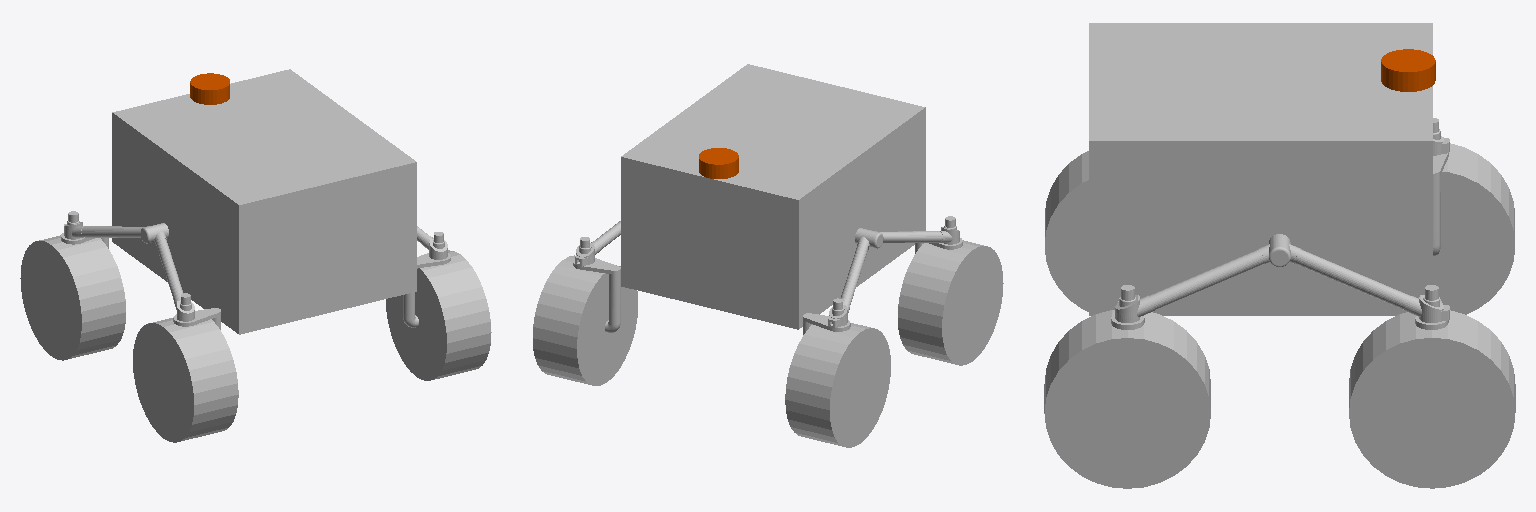
The robot description file, URDF, robot "rover":
<?xml version='1.0'?>
<robot name="rover" version="1.0">
  
  <!-- Joint Definitions -->
  <joint name="base_footprint_joint" type="fixed">
    <parent link="base_link"/>
    <child link="base_footprint"/>
    <origin xyz="0 0 0" rpy="0 0 0"/>
  </joint>

  <link name="base_footprint">
  </link>
  <link name="base_link">
  </link>

  <joint name="chassis_joint" type="fixed">
    <parent link="base_link"/>
    <child link="chassis_link"/>
    <origin xyz="0 0 0"/>
  </joint>

  <joint name="back_left_wheel_connection_link_joint" type="continuous">
    <!-- <limit lower="0" upper="0" effort="0.000000" velocity="0.000000"/> -->
    <origin rpy="-0.000000 1.570796 0.000000" xyz="-0.040213 0.277630 -0.040843"/>
    <parent link="left_rocker_link"/>
    <child link="back_left_wheel_connection_link"/>
    <axis xyz="0.000000 0.000000 1.000000"/>
  </joint>
  <joint name="back_left_wheel_link_joint" type="continuous">
    <!-- <limit lower="0" upper="0" effort="0.000000" velocity="0.000000"/> -->
    <origin rpy="0.000000 -1.570796 0.000000" xyz="-0.001015 0.000984 -0.224364"/>
    <parent link="back_left_wheel_connection_link"/>
    <child link="back_left_wheel_link"/>
    <axis xyz="0.000000 0.000000 1.000000"/>
  </joint>
  <joint name="back_right_wheel_link_joint" type="continuous">
    <!-- <limit lower="0" upper="0" effort="0.000000" velocity="0.000000"/> -->
    <origin rpy="0.000000 -1.570796 0.000000" xyz="-0.001015 0.000984 -0.224364"/>
    <parent link="back_right_wheel_connection_link"/>
    <child link="back_right_wheel_link"/>
    <axis xyz="0.000000 0.000000 1.000000"/>
  </joint>
  <joint name="back_right_wheel_connection_link_joint" type="continuous">
    <!-- <limit lower="0" upper="0" effort="0.000000" velocity="0.000000"/> -->
    <origin rpy="-0.000000 1.570796 0.000000" xyz="-0.039199 0.277668 0.039794"/>
    <parent link="right_rocker_link"/>
    <child link="back_right_wheel_connection_link"/>
    <axis xyz="0.000000 0.000000 1.000000"/>
  </joint>
  <joint name="front_left_wheel_connection_link_joint" type="continuous">
    <!-- <limit lower="0" upper="0" effort="0.000000" velocity="0.000000"/> -->
    <origin rpy="-0.000000 1.570796 0.000000" xyz="-0.040213 -0.279250 -0.041051"/>
    <parent link="left_rocker_link"/>
    <child link="front_left_wheel_connection_link"/>
    <axis xyz="0.000000 0.000000 1.000000"/>
  </joint>
  <joint name="front_left_wheel_link_joint" type="continuous">
    <!-- <limit lower="0" upper="0" effort="0.000000" velocity="0.000000"/> -->
    <origin rpy="0.000000 -1.570796 0.000000" xyz="-0.000405 0.000234 -0.224593"/>
    <parent link="front_left_wheel_connection_link"/>
    <child link="front_left_wheel_link"/>
    <axis xyz="0.000000 0.000000 1.000000"/>
  </joint>
  <joint name="front_right_wheel_connection_link_joint" type="continuous">
    <!-- <limit lower="0" upper="0" effort="0.000000" velocity="0.000000"/> -->
    <origin rpy="-0.000000 1.570796 0.000000" xyz="-0.039199 -0.279811 0.039779"/>
    <parent link="right_rocker_link"/>
    <child link="front_right_wheel_connection_link"/>
    <axis xyz="0.000000 0.000000 1.000000"/>
  </joint>
  <joint name="front_right_wheel_link_joint" type="continuous">
    <!-- <limit lower="0" upper="0" effort="0.000000" velocity="0.000000"/> -->
    <origin rpy="-0.000000 -1.570796 0.000000" xyz="-0.001015 0.000984 -0.224364"/>
    <parent link="front_right_wheel_connection_link"/>
    <child link="front_right_wheel_link"/>
    <axis xyz="0.000000 0.000000 1.000000"/>
  </joint>
  <joint name="left_rocker_link_joint" type="fixed">
    <!-- <limit lower="-1.000000" upper="1.000000" effort="0.000000" velocity="0.000000"/> -->
    <origin rpy="0.000000 -1.570796 0.000000" xyz="0.316939 0.035009 -0.031693"/>
    <parent link="chassis_link"/>
    <child link="left_rocker_link"/>
    <axis xyz="0.000000 0.000000 1.000000"/>
  </joint>
  <joint name="right_rocker_link_joint" type="fixed">
    <!-- <limit lower="-1.000000" upper="1.000000" effort="0.000000" velocity="0.000000"/> -->
    <origin rpy="0.000000 -1.570796 0.000000" xyz="-0.326391 0.034904 -0.032707"/>
    <parent link="chassis_link"/>
    <child link="right_rocker_link"/>
    <axis xyz="0.000000 0.000000 1.000000"/>
  </joint>

  <!-- Link Definitions -->
  <link name="back_left_wheel_connection_link">
    <collision name="back_left_wheel_connection_collision">
      <origin rpy="0.000000 0.000000 0.000000" xyz="-0.000000 -0.000000 -0.000000"/>
      <geometry>
        <mesh filename="package://rover/meshes/dae/rover_assm.263.dae" scale="0.001020 0.001020 0.001020"/>
      </geometry>
    </collision>
    <inertial>
      <inertia ixx="0.007968" ixy="0.000000" ixz="0.000000" iyy="0.006673" iyz="-0.002185" izz="0.001483"/>
      <origin rpy="0.000000 0.000000 0.000000" xyz="-0.034999 -0.000141 -0.080752"/>
      <mass value="1.000000"/>
    </inertial>
    <visual name="back_left_wheel_connection">
      <origin rpy="0.000000 0.000000 0.000000" xyz="0.000000 -0.000000 0.000000"/>
      <material name="RockerMat"/>
      <geometry>
        <mesh filename="package://rover/meshes/dae/rover_assm.266.dae" scale="0.001020 0.001020 0.001020"/>
      </geometry>
    </visual>
  </link>
  <gazebo reference="back_left_wheel_connection_link">
    <material>Gazebo/Blue</material>
  </gazebo>
  <link name="back_left_wheel_link">
    <collision name="back_left_wheel_collision">
      <origin rpy="-3.141593 -0.000000 -3.141593" xyz="-0.000149 -0.000000 -0.000229"/>
      <geometry>
        <cylinder radius="0.152590" length="0.127483"/>
      </geometry>
    </collision>
    <inertial>
      <inertia ixx="0.045943" ixy="-0.000000" ixz="0.000000" iyy="0.064649" iyz="0.000000" izz="0.064499"/>
      <origin rpy="0.000000 0.000000 0.000000" xyz="0.000000 0.000000 0.000000"/>
      <mass value="1.000000"/>
    </inertial>
    <visual name="back_left_wheel">
      <origin rpy="-3.141593 -0.000000 -3.141593" xyz="-0.000 -0.000000 -0.000"/>
      <material name="Dirty Chrome"/>
      <geometry>
        <cylinder radius="0.152590" length="0.127483"/>
      </geometry>
    </visual>
  </link>
  <gazebo reference="back_left_wheel_link">
    <material>Gazebo/Black</material>
  </gazebo>
  <link name="back_right_wheel_link">
    <collision name="back_right_wheel_collision">
      <origin rpy="-3.141593 -0.000000 -3.141593" xyz="-0.000000 0.000000 0.000000"/>
      <geometry>
        <cylinder radius="0.152590" length="0.127483"/>
      </geometry>
    </collision>
    <inertial>
      <inertia ixx="0.045943" ixy="-0.000000" ixz="0.000000" iyy="0.064649" iyz="0.000000" izz="0.064499"/>
      <origin rpy="0.000000 0.000000 0.000000" xyz="0.000000 0.000000 0.000000"/>
      <mass value="1.000000"/>
    </inertial>
    <visual name="back_right_wheel">
      <origin rpy="-3.141593 -0.000000 -3.141593" xyz="0.000000 0.000000 -0.000000"/>
      <material name="Dirty Chrome"/>
      <geometry>
        <cylinder radius="0.152590" length="0.127483"/>
      </geometry>
    </visual>
  </link>
  <gazebo reference="back_right_wheel_link">
    <material>Gazebo/Black</material>
  </gazebo>
  <link name="back_right_wheel_connection_link">
    <collision name="back_right_wheel_connection_collision">
      <origin rpy="0.000000 0.000000 0.000000" xyz="-0.000000 0.000000 0.000000"/>
      <geometry>
        <mesh filename="package://rover/meshes/dae/rover_assm.273.dae" scale="0.001020 0.001020 0.001020"/>
      </geometry>
    </collision>
    <inertial>
      <inertia ixx="0.007971" ixy="0.000000" ixz="-0.000000" iyy="0.006675" iyz="0.002187" izz="0.001484"/>
      <origin rpy="0.000000 0.000000 0.000000" xyz="0.033951 -0.000071 -0.080752"/>
      <mass value="1.000000"/>
    </inertial>
    <visual name="back_right_wheel_connection">
      <origin rpy="0.000000 0.000000 0.000000" xyz="0.000000 -0.000000 0.000000"/>
      <material name="RockerMat"/>
      <geometry>
        <mesh filename="package://rover/meshes/dae/rover_assm.272.dae" scale="0.001020 0.001020 0.001020"/>
      </geometry>
    </visual>
  </link>
  <gazebo reference="back_right_wheel_connection_link">
    <material>Gazebo/Blue</material>
  </gazebo>
  <link name="chassis_link">
    <collision name="chassis_collision">
      <origin rpy="0.000000 0.000000 -0.000000" xyz="-0.000000 0.036421 0.000000"/>
      <geometry>
        <box size="0.509469 0.629976 0.354739"/>
      </geometry>
    </collision>
    <inertial>
      <inertia ixx="0.045943" ixy="-0.000000" ixz="0.000000" iyy="0.064649" iyz="0.000000" izz="0.064499"/>
      <origin rpy="0.000000 0.000000 0.000000" xyz="0.000000 0.000000 0.000000"/>
      <mass value="1.000000"/>
    </inertial>
    <visual name="chassis">
      <origin rpy="0.000000 0.000000 0.000000" xyz="0.000000 0.000000 0.000000"/>
      <material name="MLI Foil for chassis"/>
      <geometry>
        <box size="0.509469 0.629976 0.354739"/>
      </geometry>
    </visual>
  </link>
  <gazebo reference="chassis_link">
    <material>Gazebo/Orange</material>
  </gazebo>
  <link name="front_left_wheel_connection_link">
    <collision name="front_left_wheel_connection_collision">
      <origin rpy="0.000000 0.000000 0.000000" xyz="0.000000 -0.000000 0.000000"/>
      <geometry>
        <mesh filename="package://rover/meshes/dae/rover_assm.266.dae" scale="0.001020 0.001020 0.001020"/>
      </geometry>
    </collision>
    <inertial>
      <inertia ixx="0.007968" ixy="0.000000" ixz="0.000000" iyy="0.006673" iyz="-0.002185" izz="0.001483"/>
      <origin rpy="0.000000 0.000000 0.000000" xyz="-0.035207 0.000317 -0.080752"/>
      <mass value="1.000000"/>
    </inertial>
    <visual name="front_left_wheel_connection">
      <origin rpy="0.000000 0.000000 0.000000" xyz="0.000000 -0.000000 0.000000"/>
      <material name="RockerMat"/>
      <geometry>
        <mesh filename="package://rover/meshes/dae/rover_assm.266.dae" scale="0.001020 0.001020 0.001020"/>
      </geometry>
    </visual>
  </link>
  <gazebo reference="front_left_wheel_connection_link">
    <material>Gazebo/Blue</material>
  </gazebo>
  <link name="front_left_wheel_link">
    <collision name="front_left_wheel_collision">
      <origin rpy="-3.141593 -0.000000 -3.141593" xyz="0.000149 -0.000000 0.000229"/>
      <geometry>
        <cylinder radius="0.152957" length="0.127790"/>
      </geometry>
    </collision>
    <inertial>
      <inertia ixx="0.008751" ixy="-0.000000" ixz="0.000000" iyy="0.008751" iyz="0.000000" izz="0.002031"/>
      <origin rpy="0.000000 0.000000 0.000000" xyz="0.000148 -0.000000 0.000229"/>
      <mass value="1.000000"/>
    </inertial>
    <visual name="front_left_wheel">
      <origin rpy="-3.141593 -0.000000 -3.141593" xyz="0.000149 -0.000000 0.000229"/>
      <material name="Dirty Chrome"/>
      <geometry>
        <cylinder radius="0.152590" length="0.127483"/>
      </geometry>
    </visual>
  </link>
  <gazebo reference="front_left_wheel_link">
    <material>Gazebo/Black</material>
  </gazebo>
  <link name="front_right_wheel_connection_link">
    <collision name="front_right_wheel_connection_collision">
      <origin rpy="0.000000 0.000000 0.000000" xyz="0.000000 -0.000000 0.000000"/>
      <geometry>
        <mesh filename="package://rover/meshes/dae/rover_assm.272.dae" scale="0.001020 0.001020 0.001020"/>
      </geometry>
    </collision>
    <inertial>
      <inertia ixx="0.007971" ixy="0.000000" ixz="-0.000000" iyy="0.006675" iyz="0.002187" izz="0.001484"/>
      <origin rpy="0.000000 0.000000 0.000000" xyz="0.033936 0.000985 -0.080752"/>
      <mass value="1.000000"/>
    </inertial>
    <visual name="front_right_wheel_connection">
      <origin rpy="0.000000 0.000000 -0.000000" xyz="0.000000 -0.000000 0.000000"/>
      <material name="RockerMat"/>
      <geometry>
        <mesh filename="package://rover/meshes/dae/rover_assm.272.dae" scale="0.001020 0.001020 0.001020"/>
      </geometry>
    </visual>
  </link>
  <gazebo reference="front_right_wheel_connection_link">
    <material>Gazebo/Blue</material>
  </gazebo>
  <link name="front_right_wheel_link">
    <collision name="front_right_wheel_collision">
      <origin rpy="0.000000 -0.000000 -0.000000" xyz="-0.001154 -0.000002 -0.000037"/>
      <geometry>
        <cylinder radius="0.151841" length="0.126857"/>
      </geometry>
    </collision>
    <inertial>
      <inertia ixx="0.008751" ixy="0.000000" ixz="0.000000" iyy="0.008751" iyz="-0.000000" izz="0.002031"/>
      <origin rpy="0.000000 0.000000 0.000000" xyz="0.000000 -0.000000 0.000000"/>
      <mass value="1.000000"/>
    </inertial>
    <visual name="front_right_wheel">
      <origin rpy="-3.141593 -0.000000 -3.141593" xyz="0.000000 -0.000000 0.000000"/>
      <material name="Dirty Chrome"/>
      <geometry>
        <cylinder radius="0.152590" length="0.127483"/>
      </geometry>
    </visual>
  </link>
  <gazebo reference="front_right_wheel_link">
    <material>Gazebo/Black</material>
  </gazebo>
  <link name="left_rocker_link">
    <collision name="left_rocker_collision">
      <origin rpy="-0.000000 1.570796 0.000000" xyz="-0.000000 -0.000000 0.000000"/>
      <geometry>
        <mesh filename="package://rover/meshes/dae/rover_assm.277.dae" scale="0.001020 0.001020 0.001020"/>
      </geometry>
    </collision>
    <inertial>
      <inertia ixx="0.001331" ixy="-0.000094" ixz="0.000210" iyy="0.031629" iyz="0.000565" izz="0.031481"/>
      <origin rpy="0.000000 0.000000 0.000000" xyz="-0.042253 0.002366 -0.001819"/>
      <mass value="1.000000"/>
    </inertial>
    <visual name="left_rocker">
      <origin rpy="-0.000000 1.570796 0.000000" xyz="-0.000000 -0.000000 0.000000"/>
      <material name="RockerMat"/>
      <geometry>
        <mesh filename="package://rover/meshes/dae/rover_assm.277.dae" scale="0.001020 0.001020 0.001020"/>
      </geometry>
    </visual>
  </link>
  <gazebo reference="left_rocker_link">
    <material>Gazebo/White</material>
  </gazebo>
  <link name="right_rocker_link">
    <collision name="right_rocker_collision">
      <origin rpy="0.000000 1.570796 0.000000" xyz="-0.000000 0.000000 -0.000000"/>
      <geometry>
        <mesh filename="package://rover/meshes/dae/rover_assm.267.dae" scale="0.001020 0.001020 0.001020"/>
      </geometry>
    </collision>
    <inertial>
      <inertia ixx="0.001330" ixy="0.000096" ixz="0.000215" iyy="0.031632" iyz="-0.000565" izz="0.031485"/>
      <origin rpy="0.000000 0.000000 0.000000" xyz="-0.041239 0.002470 0.001819"/>
      <mass value="1.000000"/>
    </inertial>
    <visual name="right_rocker">
      <origin rpy="-0.000000 1.570796 0.000000" xyz="-0.000000 0.000000 -0.000000"/>
      <material name="RockerMat"/>
      <geometry>
        <mesh filename="package://rover/meshes/dae/rover_assm.267.dae" scale="0.001020 0.001020 0.001020"/>
      </geometry>
    </visual>
  </link>
  <gazebo reference="right_rocker_link">
    <material>Gazebo/White</material>
  </gazebo>

  <!-- Lidar -->
  <joint name="laser_joint" type="fixed">
    <parent link="chassis_link"/>
    <child link="laser_frame"/>
    <origin xyz="0 0.27 0.2" rpy="0 0 0"/>
  </joint>

  <link name="laser_frame">
    <visual>
      <geometry>
        <cylinder radius="0.05" length="0.04"/>
      </geometry>
    </visual>
    <collision>
      <geometry>
        <cylinder radius="0.05" length="0.04"/>
      </geometry>
    </collision>
    <inertial>
      <inertia ixx="4.17e-05" ixy="0.0" ixz="0.0" iyy="4.17e-05" iyz="0.0" izz="1.25e-06"/>
      <origin xyz="0 0 0" rpy="0 0 0"/>
      <mass value="0.050"/>
    </inertial>
  </link>

  <gazebo reference="laser_frame">
    <sensor name="velodyne" type="ray">
      <update_rate>10</update_rate>
      <visualize>true</visualize>
      <always_on>true</always_on>
      <ray>
        <scan>
          <horizontal>
            <samples>180</samples>
            <resolution>1</resolution>
            <min_angle>0.0</min_angle>
            <max_angle>3.141592</max_angle>
          </horizontal>
          <vertical>
            <samples>16</samples>
            <min_angle>-0.261799</min_angle>
            <max_angle>0.261799</max_angle>
          </vertical>
        </scan>
        <range>
          <min>0.1</min>
          <max>100.0</max>
          <resolution>0.01</resolution>
        </range>
      </ray>
    </sensor>

    <!-- ROS plugin to publish LIDAR data -->
    <plugin name="velodyne_plugin" filename="libgazebo_ros_laser.so">
      <ros>
        <namespace>/rover</namespace>
        <argument>velodyne</argument>
      </ros>
      <sensor>velodyne</sensor>
    </plugin>
  </gazebo>

  <!-- ROS2 Control -->
  <ros2_control name="GazeboSystem" type="system">
    <hardware>
      <plugin>gazebo_ros2_control/GazeboSystem</plugin>
    </hardware>
    <!-- Wheels -->
    <joint name="front_left_wheel_link_joint">
      <command_interface name="velocity">
        <param name="min">-10</param>
        <param name="max">10</param>
      </command_interface>
      <state_interface name="velocity"/>
      <state_interface name="position"/>
    </joint>
    <joint name="front_right_wheel_link_joint">
      <command_interface name="velocity">
        <param name="min">-10</param>
        <param name="max">10</param>
      </command_interface>
      <state_interface name="velocity"/>
      <state_interface name="position"/>
    </joint>
    <joint name="back_left_wheel_link_joint">
      <command_interface name="velocity">
        <param name="min">-10</param>
        <param name="max">10</param>
      </command_interface>
      <state_interface name="velocity"/>
      <state_interface name="position"/>
    </joint>
    <joint name="back_right_wheel_link_joint">
      <command_interface name="velocity">
        <param name="min">-10</param>
        <param name="max">10</param>
      </command_interface>
      <state_interface name="velocity"/>
      <state_interface name="position"/>
    </joint>
    <!-- Connectors -->
    <joint name="front_left_wheel_connection_link_joint">
      <command_interface name="position">
        <param name="min">-10</param>
        <param name="max">10</param>
      </command_interface>
      <state_interface name="velocity"/>
      <state_interface name="position"/>
    </joint>
    <joint name="front_right_wheel_connection_link_joint">
      <command_interface name="position">
        <param name="min">-10</param>
        <param name="max">10</param>
      </command_interface>
      <state_interface name="velocity"/>
      <state_interface name="position"/>
    </joint>
    <joint name="back_left_wheel_connection_link_joint">
      <command_interface name="position">
        <param name="min">-10</param>
        <param name="max">10</param>
      </command_interface>
      <state_interface name="velocity"/>
      <state_interface name="position"/>
    </joint>
    <joint name="back_right_wheel_connection_link_joint">
      <command_interface name="position">
        <param name="min">-10</param>
        <param name="max">10</param>
      </command_interface>
      <state_interface name="velocity"/>
      <state_interface name="position"/>
    </joint>
    <!-- Rockers -->
    <!-- <joint name="left_rocker_link_joint">
      <command_interface name="velocity">
        <param name="min">-10</param>
        <param name="max">10</param>
      </command_interface>
      <state_interface name="velocity"/>
      <state_interface name="position"/>
    </joint>
    <joint name="right_rocker_link_joint">
      <command_interface name="velocity">
        <param name="min">-10</param>
        <param name="max">10</param>
      </command_interface>
      <state_interface name="velocity"/>
      <state_interface name="position"/>
    </joint> -->
  </ros2_control>
  <gazebo>
    <plugin name="gazebo_ros2_control" filename="libgazebo_ros2_control.so">
      <parameters>[local-path]/FLARE_ws/install/rover/share/rover/config/controllers.yaml</parameters>
      <!-- <parameters>$(find rover)/config/gaz_ros2_ctl_use_sim.yaml</parameters> -->
    </plugin>
  </gazebo>

  <!-- Material Definitions -->
  <material name="Dirty Chrome">
    <color rgba="0.800000 0.800000 0.800000 1.000000"/>
  </material>
  <material name="MLI Foil for chassis">
    <color rgba="0.800000 0.800000 0.800000 1.000000"/>
  </material>
  <material name="RockerMat">
    <color rgba="0.800000 0.800000 0.800000 1.000000"/>
  </material>
</robot>

--- What the picture shows (computed from the rendered views, not written in the file) ---
Views: 3 orthographic renders of the robot side by side, from view 1: azimuth 30°, elevation 25°; view 2: azimuth 150°, elevation 25°; view 3: azimuth 270°, elevation 25°.
Model rover with 14 links and 13 joints (8 continuous, 5 fixed), rooted at base_link, posed all joints at 0.
Links seen in each view (by area): view 1: chassis_link, front_right_wheel_link, back_right_wheel_link, front_left_wheel_link, right_rocker_link, laser_frame, front_left_wheel_connection_link, front_right_wheel_connection_link; view 2: chassis_link, back_right_wheel_link, front_right_wheel_link, back_left_wheel_link, right_rocker_link, back_left_wheel_connection_link, laser_frame, left_rocker_link, back_right_wheel_connection_link; view 3: chassis_link, front_left_wheel_link, back_left_wheel_link, back_right_wheel_link, left_rocker_link, front_right_wheel_link, laser_frame, back_right_wheel_connection_link, front_left_wheel_connection_link, back_left_wheel_connection_link.
Link boxes in pixels (x1,y1,x2,y2): chassis_link: [112, 69, 416, 334]; front_right_wheel_link: [133, 318, 238, 442]; back_right_wheel_link: [20, 235, 125, 360]; front_left_wheel_link: [386, 250, 491, 380]; right_rocker_link: [64, 222, 194, 321]; laser_frame: [190, 73, 229, 104]; front_left_wheel_connection_link: [403, 232, 450, 327]; front_right_wheel_connection_link: [173, 293, 220, 329]; chassis_link: [621, 64, 925, 329]; back_right_wheel_link: [785, 323, 890, 447]; front_right_wheel_link: [898, 240, 1003, 365]; back_left_wheel_link: [533, 255, 637, 385]; right_rocker_link: [828, 227, 959, 327]; back_left_wheel_connection_link: [573, 237, 620, 332]; laser_frame: [699, 148, 738, 178]; left_rocker_link: [575, 221, 620, 266]; back_right_wheel_connection_link: [803, 298, 850, 334]; chassis_link: [1089, 23, 1432, 315]; front_left_wheel_link: [1044, 310, 1210, 488]; back_left_wheel_link: [1349, 310, 1515, 488]; back_right_wheel_link: [1433, 143, 1514, 314]; left_rocker_link: [1115, 234, 1449, 322]; front_right_wheel_link: [1045, 151, 1088, 311]; laser_frame: [1381, 49, 1435, 91]; back_right_wheel_connection_link: [1433, 118, 1448, 255]; front_left_wheel_connection_link: [1111, 285, 1144, 329]; back_left_wheel_connection_link: [1415, 285, 1448, 329].
Size in the robot's own frame: 0.852 by 0.8628 by 0.6689 metres.
Meshes: 4 distinct files referenced, 6 mesh visuals loaded (4 Collada DAE).
